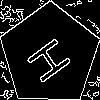H: (25, 30, 81, 86)
